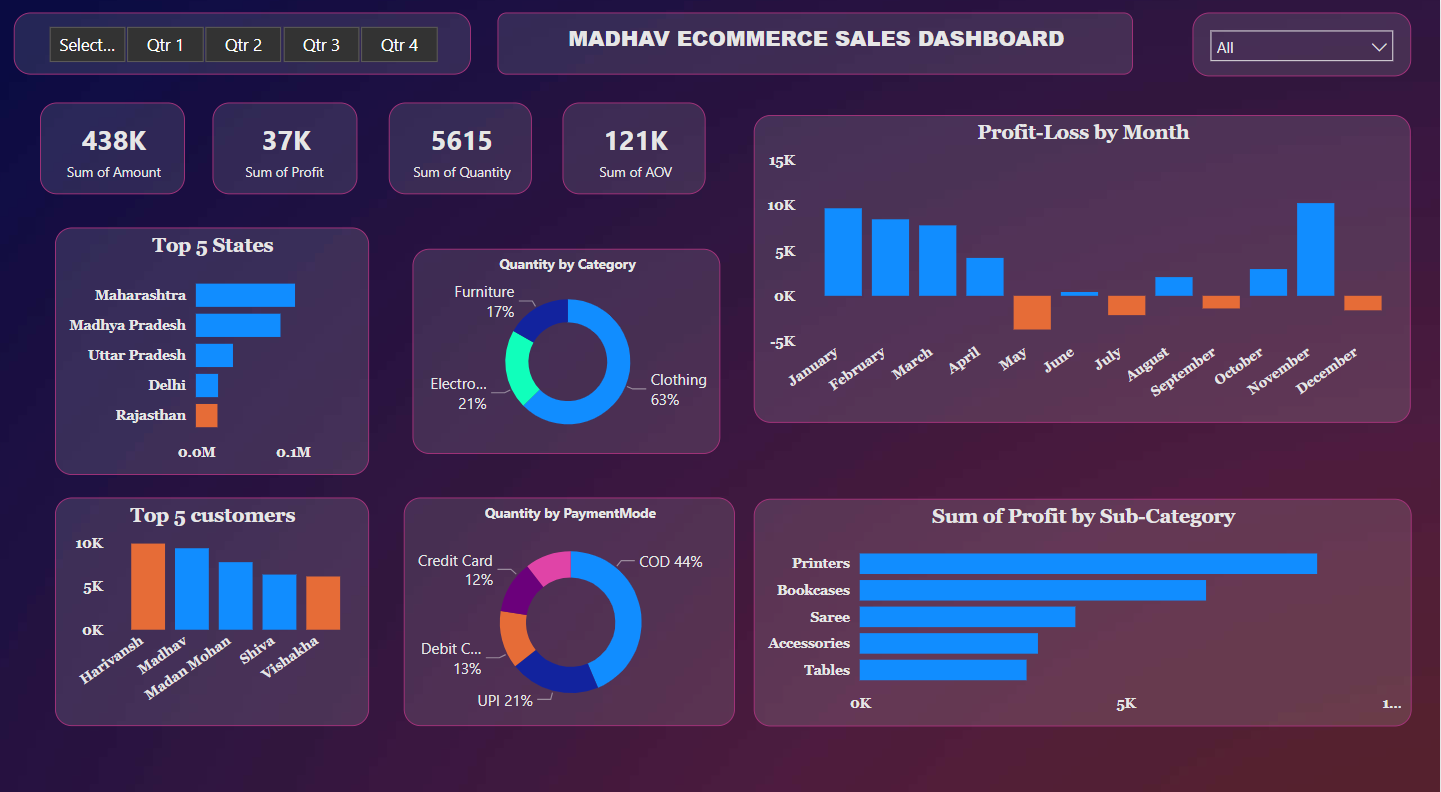

The page's visual inventory and layout, read from the dashboard file:
{"tool":"powerbi","page":{"name":"Page 1","canvas":[1280,720],"ordinal":0},"visuals":[{"type":"textbox","box":[442.5,11.2,565,55],"z":0},{"type":"lineStackedColumnComboChart","title":"Profit by Month","fields":{"Category":["Orders.Order Date.Variation.Date Hierarchy.Month"],"Y":["Details.Profit"]},"box":[669.7,102.6,584.2,273.7],"z":1000},{"type":"donutChart","fields":{"Category":["Details.Category"],"Y":["Details.Quantity"]},"box":[366.2,221.2,273.8,182.5],"z":2000},{"type":"donutChart","fields":{"Y":["Details.Quantity"],"Category":["Details.PaymentMode"]},"box":[358.8,442.5,288.8,187.5],"z":3000},{"type":"card","fields":{"Values":["Details.Amount"]},"box":[35,91.2,128.8,81.2],"z":4000},{"type":"card","fields":{"Values":["Details.Profit"]},"box":[188.8,91.2,128.8,81.2],"z":5000},{"type":"card","fields":{"Values":["Details.Quantity"]},"box":[345,91.2,127.5,81.2],"z":6000},{"type":"card","fields":{"Values":["Details.AOV"]},"box":[500,91.2,127.5,81.2],"z":7000},{"type":"barChart","fields":{"Category":["Orders.State"],"Y":["Details.Amount"]},"box":[49.4,202.5,279,219.8],"z":8000},{"type":"columnChart","fields":{"Category":["Orders.CustomerName"],"Y":["Details.Amount"]},"box":[49,442,279,188],"z":9000},{"type":"slicer","fields":{"Values":["Orders.State"]},"box":[1060,11.4,194.3,57.1],"z":10000},{"type":"slicer","fields":{"Values":["Orders.Order Date.Variation.Date Hierarchy.Quarter"]},"box":[12.5,11.2,406.2,55],"z":11000},{"type":"barChart","fields":{"Category":["Details.Sub-Category"],"Y":["Details.Profit"]},"box":[670,443,584,188],"z":12000}]}

Visuals, with their boxes in screenshot pixels (x1, y1, x2, y2), scaled from the page's 1280x720 canvas onto the 1441x792 screenshot:
textbox: locate(498, 12, 1134, 73)
"Profit by Month" lineStackedColumnComboChart: locate(754, 113, 1412, 414)
donutChart - Details.Category x Details.Quantity: locate(412, 243, 720, 444)
donutChart - Details.Quantity x Details.PaymentMode: locate(404, 487, 729, 693)
card - Details.Amount: locate(39, 100, 184, 190)
card - Details.Profit: locate(213, 100, 358, 190)
card - Details.Quantity: locate(388, 100, 532, 190)
card - Details.AOV: locate(563, 100, 706, 190)
barChart - Orders.State x Details.Amount: locate(56, 223, 370, 465)
columnChart - Orders.CustomerName x Details.Amount: locate(55, 486, 369, 693)
slicer - Orders.State: locate(1193, 13, 1412, 75)
slicer - Orders.Order Date.Variation.Date Hierarchy.Quarter: locate(14, 12, 471, 73)
barChart - Details.Sub-Category x Details.Profit: locate(754, 487, 1412, 694)
